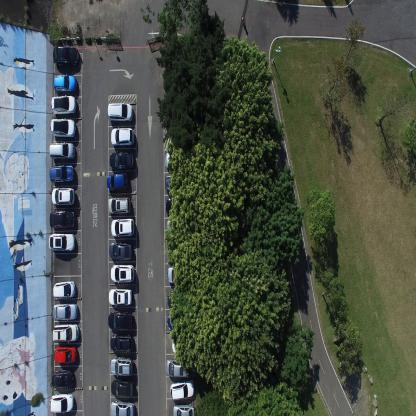car: (52, 44, 79, 68), (49, 117, 76, 140), (106, 102, 134, 124), (49, 391, 74, 414), (109, 150, 135, 172), (49, 140, 75, 162), (50, 94, 76, 116), (52, 323, 79, 344), (48, 232, 76, 252), (170, 378, 194, 401), (110, 216, 134, 238), (166, 218, 190, 240), (110, 126, 134, 148), (164, 150, 190, 170), (49, 164, 75, 184), (49, 210, 76, 229), (165, 195, 189, 216), (166, 357, 190, 378), (108, 310, 132, 331), (50, 186, 75, 206), (52, 73, 77, 93), (171, 334, 197, 353), (108, 241, 132, 261), (110, 262, 134, 282), (108, 286, 132, 306), (165, 173, 189, 193), (167, 288, 191, 308), (110, 377, 134, 397), (167, 311, 192, 330), (167, 265, 192, 284), (53, 344, 78, 363), (53, 302, 78, 320), (110, 356, 132, 376), (106, 172, 128, 192), (107, 196, 130, 215), (110, 333, 133, 352), (52, 280, 76, 298), (51, 370, 74, 388), (110, 400, 135, 416), (172, 403, 196, 415)
